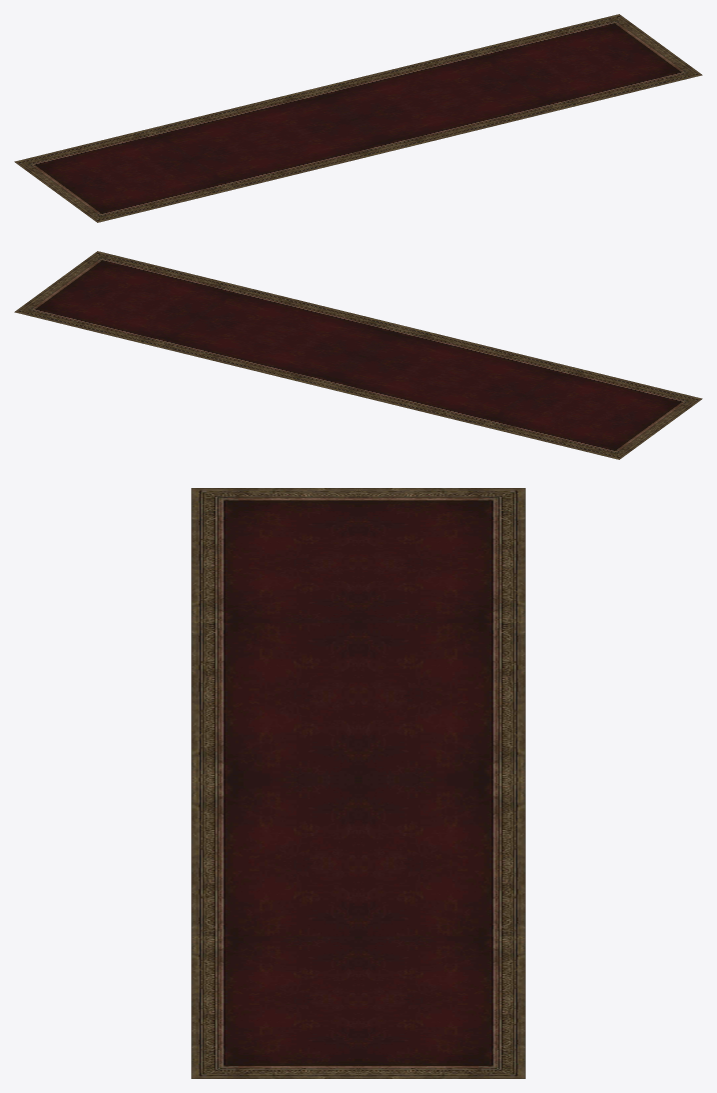
File: h5_ditan.FBX
The picture shows the model from 3 angles, top to bottom: view 1: azimuth 30°, elevation 25°; view 2: azimuth 150°, elevation 25°; view 3: azimuth 270°, elevation 25°; orthographic projection. The views are drawn at different scales.
Parts seen in each view (by area): view 1: h5_ditan; view 2: h5_ditan; view 3: h5_ditan.
Part boxes in pixels (bbox=[...]): h5_ditan: bbox=[14, 14, 702, 222]; h5_ditan: bbox=[14, 251, 702, 459]; h5_ditan: bbox=[191, 488, 525, 1078].
Size of the model in its own units: 22.19 by 2.86e-06 by 5.31.
Materials: 1 (1 with a texture image).
